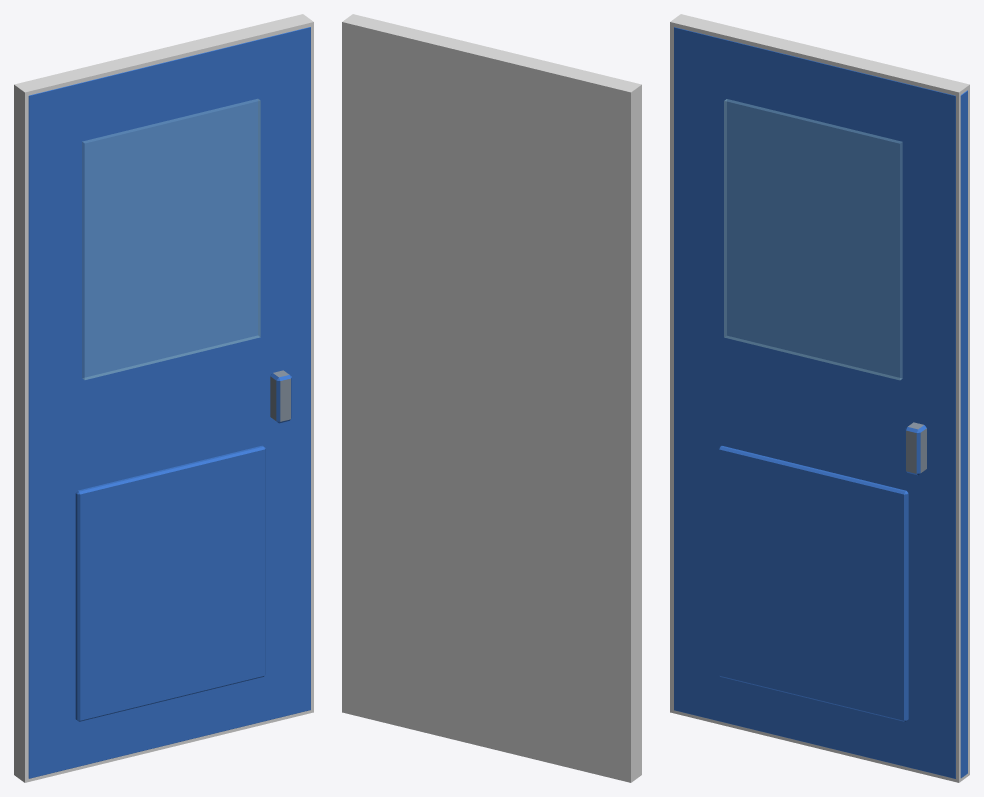
The model's file is bld_door_b.glb.
3 renders of one model, left to right at view 1: azimuth 30°, elevation 25°; view 2: azimuth 150°, elevation 25°; view 3: azimuth 330°, elevation 25°, orthographic.
Parts seen in each view (by area): view 1: bld_door_b, COL_bld_door_b_1; view 2: COL_bld_door_b_1; view 3: bld_door_b, COL_bld_door_b_1.
Part boxes in pixels (x1=…): bld_door_b: x1=28, y1=27, x2=310, y2=778; COL_bld_door_b_1: x1=14, y1=14, x2=313, y2=782; COL_bld_door_b_1: x1=342, y1=14, x2=641, y2=782; bld_door_b: x1=674, y1=27, x2=967, y2=778; COL_bld_door_b_1: x1=670, y1=14, x2=969, y2=782.
Bounding box in the file's own units: 0.9214 × 2.1 × 0.1136.
